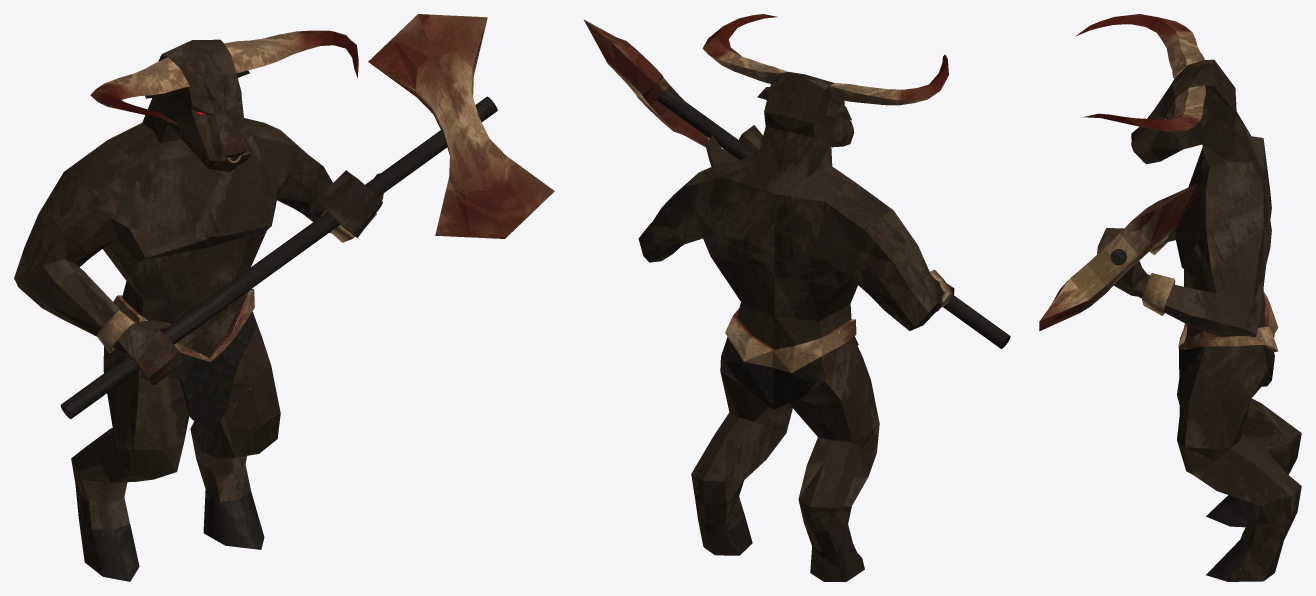
Rendered from minotaver5.gltf.
3 renders of one model, left to right at view 1: azimuth 30°, elevation 25°; view 2: azimuth 150°, elevation 25°; view 3: azimuth 270°, elevation 25°, orthographic. The views are drawn at different scales.
Visible parts, largest first — view 1: Cube, Cube.005, Cylinder, Cube.001, kiklca, Cube.003, Cube.007, pas, Cube.006; view 2: Cube, Cube.005, pas, kiklca, Cylinder, Cube.007, Cube.003, Cube.001; view 3: Cube, Cube.005, Cube.007, Cube.003, Cube.001, pas, kiklca, Cube.002.
Boxes of the visible parts, x1=… form: Cube: x1=14, y1=39, x2=383, y2=576; Cube.005: x1=368, y1=14, x2=554, y2=238; Cylinder: x1=60, y1=96, x2=497, y2=418; Cube.001: x1=79, y1=489, x2=264, y2=581; kiklca: x1=122, y1=293, x2=257, y2=434; Cube.003: x1=224, y1=30, x2=358, y2=77; Cube.007: x1=90, y1=57, x2=189, y2=125; pas: x1=113, y1=288, x2=254, y2=361; Cube.006: x1=97, y1=310, x2=135, y2=352; Cube: x1=638, y1=71, x2=954, y2=581; Cube.005: x1=583, y1=19, x2=708, y2=147; pas: x1=725, y1=308, x2=856, y2=373; kiklca: x1=724, y1=331, x2=858, y2=409; Cylinder: x1=657, y1=89, x2=1010, y2=348; Cube.007: x1=829, y1=55, x2=948, y2=105; Cube.003: x1=702, y1=14, x2=787, y2=83; Cube.001: x1=698, y1=513, x2=864, y2=581; Cube: x1=1097, y1=59, x2=1301, y2=581; Cube.005: x1=1039, y1=183, x2=1197, y2=331; Cube.007: x1=1075, y1=14, x2=1204, y2=78; Cube.003: x1=1083, y1=85, x2=1205, y2=132; Cube.001: x1=1206, y1=495, x2=1251, y2=581; pas: x1=1178, y1=292, x2=1278, y2=352; kiklca: x1=1179, y1=334, x2=1274, y2=413; Cube.002: x1=1142, y1=273, x2=1175, y2=315.
Bounding box in the file's own units: 3.48 × 3.88 × 1.92.
Materials: 8 (8 with a texture image).
